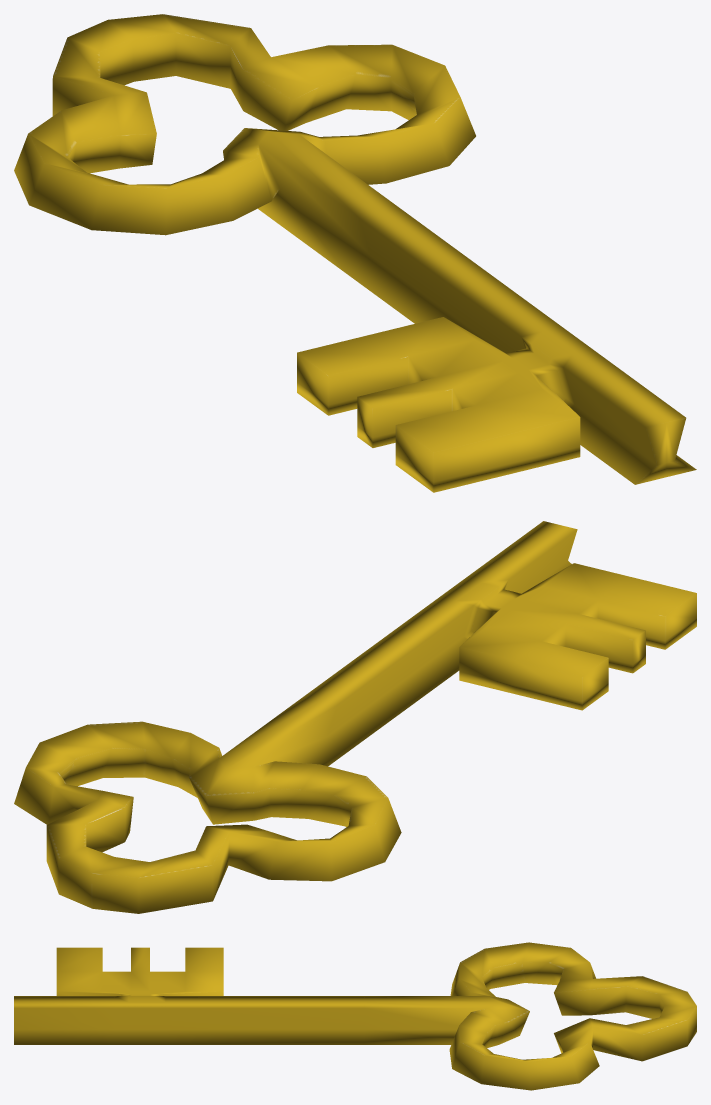
The model's file is Key.fbx.
The picture shows the model from 3 angles, top to bottom: view 1: azimuth 30°, elevation 25°; view 2: azimuth 150°, elevation 25°; view 3: azimuth 270°, elevation 25°; orthographic projection. The views are drawn at different scales.
Parts seen in each view (by area): view 1: Key; view 2: Key; view 3: Key.
Boxes of the visible parts, box(x1,y1,x2,y2) form: Key: box(14, 14, 696, 492); Key: box(14, 521, 696, 913); Key: box(14, 942, 696, 1090).
Size of the model in its own units: 12.88 by 1.58 by 29.14.
1 material, 1 textured.
